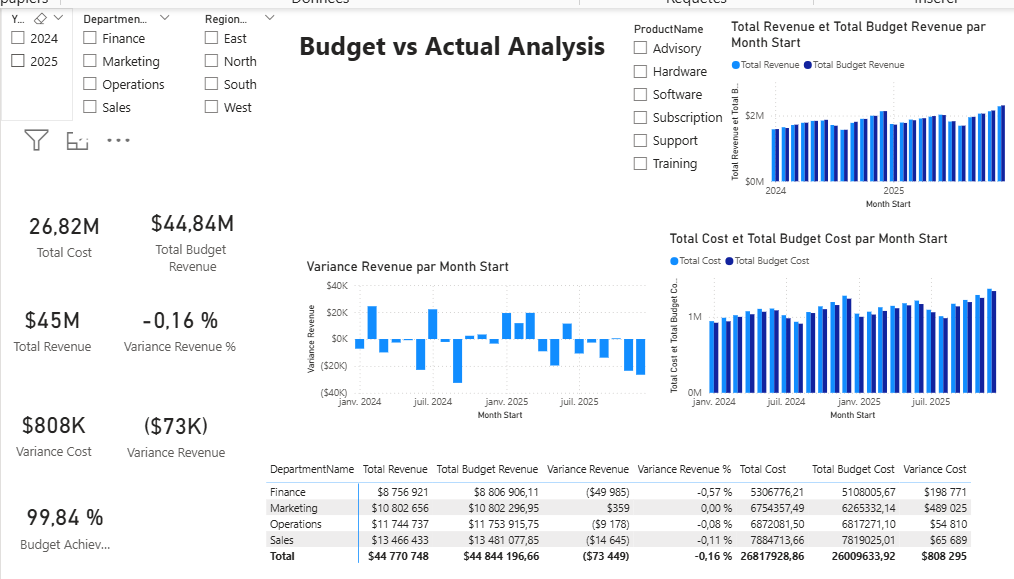

The page's visual inventory and layout, read from the dashboard file:
{"tool":"powerbi","page":{"name":"Budget vs Actual","canvas":[1280,720],"ordinal":1},"visuals":[{"type":"card","fields":{"Values":["Measures (2).Total Revenue"]},"box":[0,315.6,128.5,172],"z":0},{"type":"card","fields":{"Values":["Measures (2).Variance Revenue"]},"box":[145.5,453.5,149.3,162.5],"z":1000},{"type":"card","fields":{"Values":["Measures (2).Variance Cost"]},"box":[1.9,463,128.5,141.7],"z":2000},{"type":"slicer","fields":{"Values":["Dim_Date_Calendar.Year"]},"box":[0,0,90.7,141.7],"z":3000},{"type":"slicer","fields":{"Values":["Dim_Region.RegionName"]},"box":[243.8,0,113.4,164.4],"z":4000},{"type":"slicer","fields":{"Values":["Dim_Department.DepartmentName"]},"box":[90.7,0,134.2,164.4],"z":5000},{"type":"card","fields":{"Values":["Measures (2).Variance Revenue %"]},"box":[139.8,326.9,170.1,149.3],"z":6000},{"type":"card","fields":{"Values":["Measures (2).Total Cost"]},"box":[0,206,158.7,153.1],"z":7000},{"type":"card","fields":{"Values":["Measures (2).Total Budget Revenue"]},"box":[170.1,200.3,141.7,156.9],"z":8000},{"type":"card","fields":{"Values":["Measures (2).Budget Achievement %"]},"box":[15.1,580.2,130.4,139.8],"z":9000},{"type":"clusteredColumnChart","fields":{"Category":["Dim_Date_Calendar.Month Start"],"Y":["Measures (2).Total Revenue","Measures (2).Total Budget Revenue"]},"box":[914.7,13.2,364.7,243.8],"z":10000},{"type":"clusteredColumnChart","fields":{"Category":["Dim_Date_Calendar.Month Start"],"Y":["Measures (2).Total Cost","Measures (2).Total Budget Cost"]},"box":[837.2,279.7,442.2,243.8],"z":11000},{"type":"clusteredColumnChart","fields":{"Y":["Measures (2).Variance Revenue"],"Category":["Dim_Date_Calendar.Month Start"]},"box":[379.8,315.6,457.3,207.9],"z":12000},{"type":"pivotTable","fields":{"Rows":["Dim_Department.DepartmentName"],"Values":["Measures (2).Total Revenue","Measures (2).Total Budget Revenue","Measures (2).Variance Revenue","Measures (2).Variance Revenue %","Measures (2).Total Cost","Measures (2).Total Budget Cost","Measures (2).Variance Cost"]},"box":[328.8,565,950.6,155],"z":13000},{"type":"slicer","fields":{"Values":["Dim_Product.ProductName"]},"box":[784.3,13.2,130.4,230.6],"z":14000},{"type":"textbox","box":[370.4,18.9,421.4,64.3],"z":14002}]}

Visuals, with their boxes on the page's 1280x720 design canvas (x1, y1, x2, y2). These are canvas units, not pixel positions in the 1014x579 screenshot, which may show the page scaled, cropped or inside an application window:
card - Measures (2).Total Revenue: [0,316,128,488]
card - Measures (2).Variance Revenue: [146,454,295,616]
card - Measures (2).Variance Cost: [2,463,130,605]
slicer - Dim_Date_Calendar.Year: [0,0,91,142]
slicer - Dim_Region.RegionName: [244,0,357,164]
slicer - Dim_Department.DepartmentName: [91,0,225,164]
card - Measures (2).Variance Revenue %: [140,327,310,476]
card - Measures (2).Total Cost: [0,206,159,359]
card - Measures (2).Total Budget Revenue: [170,200,312,357]
card - Measures (2).Budget Achievement %: [15,580,146,720]
clusteredColumnChart - Dim_Date_Calendar.Month Start x Measures (2).Total Revenue: [915,13,1279,257]
clusteredColumnChart - Dim_Date_Calendar.Month Start x Measures (2).Total Cost: [837,280,1279,524]
clusteredColumnChart - Measures (2).Variance Revenue x Dim_Date_Calendar.Month Start: [380,316,837,524]
pivotTable - Dim_Department.DepartmentName x Measures (2).Total Revenue: [329,565,1279,720]
slicer - Dim_Product.ProductName: [784,13,915,244]
textbox: [370,19,792,83]
